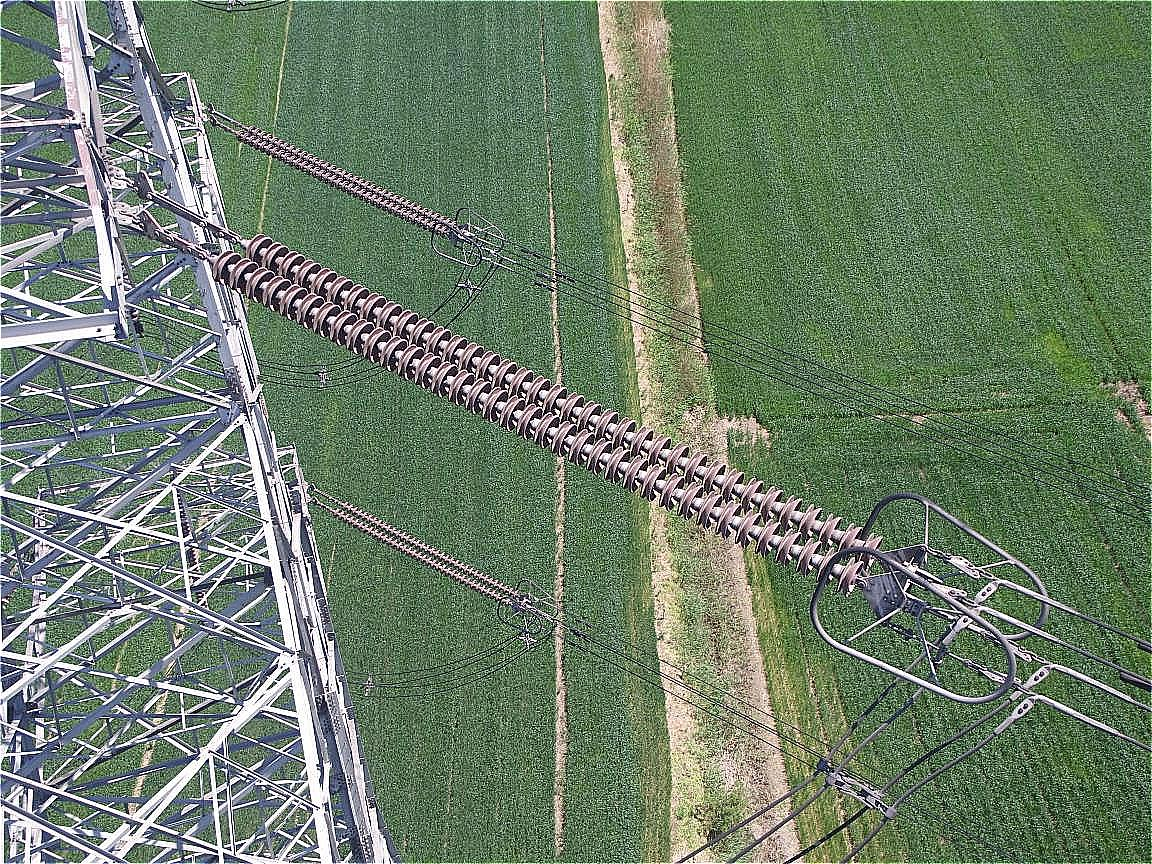insultor1: (232, 120, 463, 244), (322, 499, 536, 613)
insultor2: (185, 220, 895, 594)
